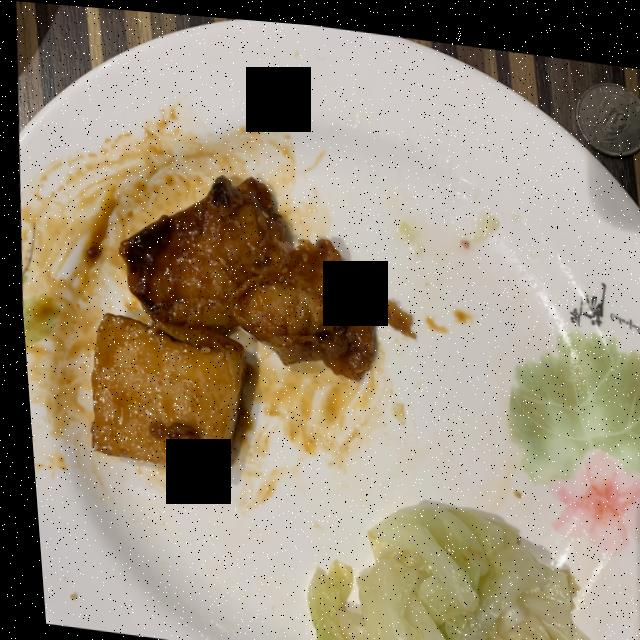cabbage: (300, 498, 581, 640)
coin: (576, 72, 640, 145)
creamy tofu: (85, 171, 409, 473)
